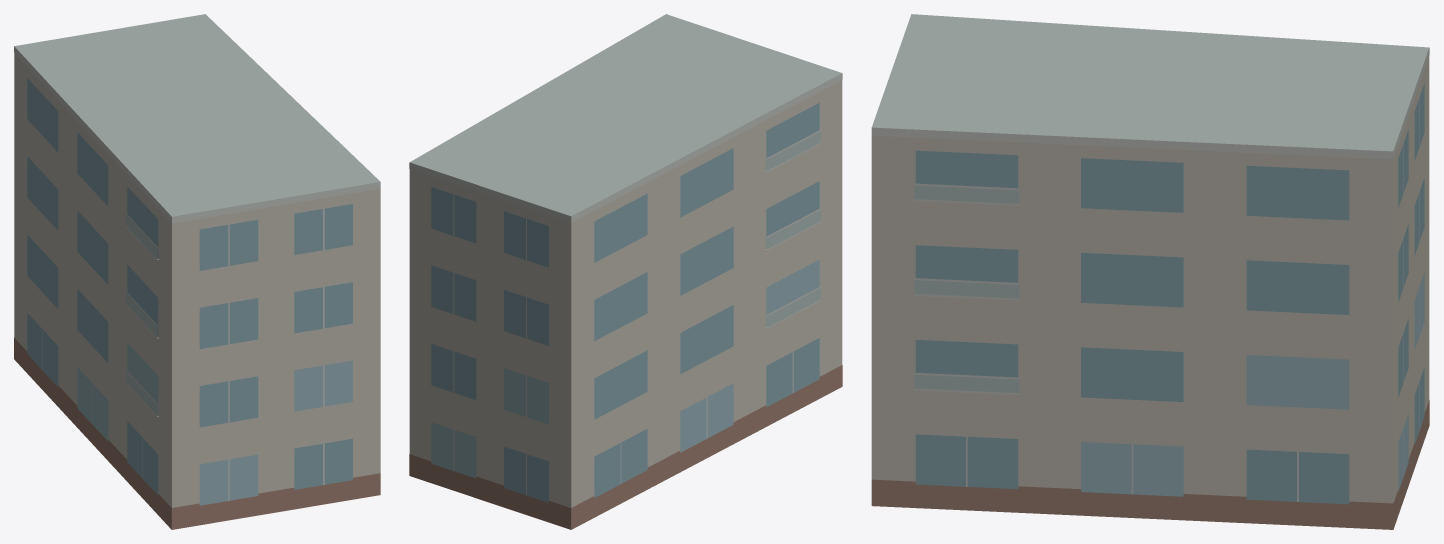
Rendered from survey-upis-32479793.glb.
3 renders of one model, left to right at view 1: azimuth 30°, elevation 25°; view 2: azimuth 150°, elevation 25°; view 3: azimuth 270°, elevation 25°, orthographic. The views are drawn at different scales.
Parts seen in each view (by area): view 1: survey-upis-32479793.tmp; view 2: survey-upis-32479793.tmp; view 3: survey-upis-32479793.tmp.
Boxes of the visible parts, x1,y1,x2,y2 form: survey-upis-32479793.tmp: (14,14,380,529); survey-upis-32479793.tmp: (409,14,842,529); survey-upis-32479793.tmp: (871,14,1429,529).
Bounding box in the file's own units: 9.04 × 11.6 × 15.5.
